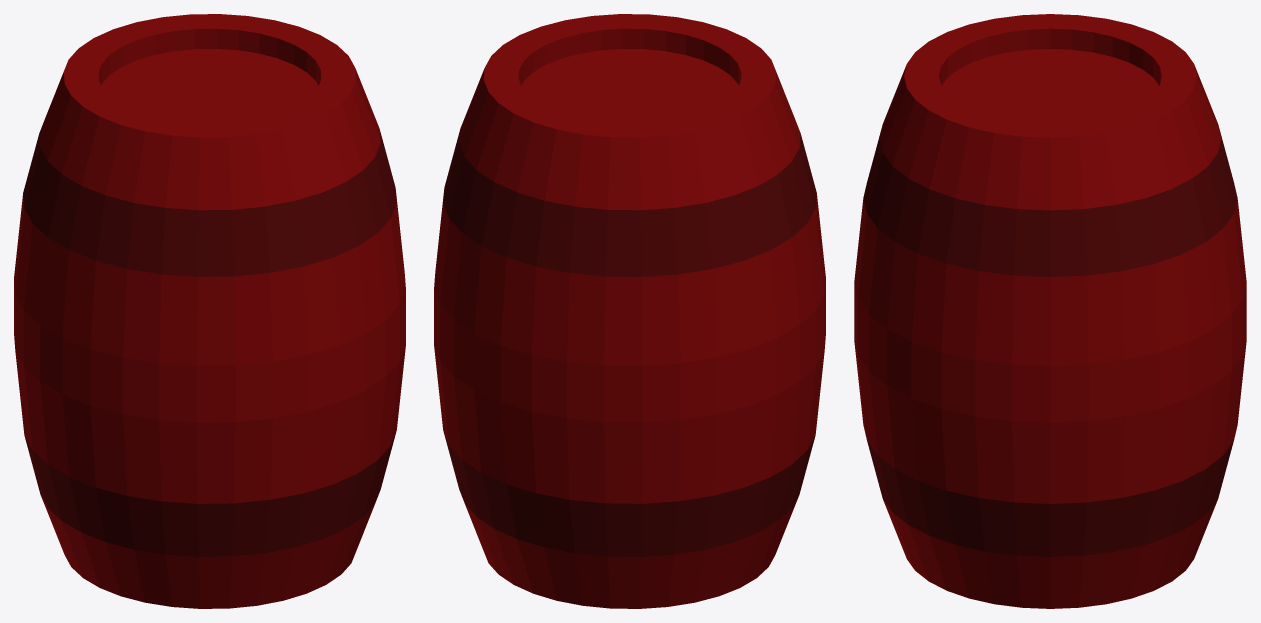
File: Barrel2.fbx
The picture shows the model from 3 angles, left to right: view 1: azimuth 30°, elevation 25°; view 2: azimuth 150°, elevation 25°; view 3: azimuth 270°, elevation 25°; orthographic projection.
Parts seen in each view (by area): view 1: Circle; view 2: Circle; view 3: Circle.
Boxes of the visible parts, x1,y1,x2,y2 form: Circle: (14,14,405,608); Circle: (434,14,825,608); Circle: (854,14,1246,608).
Bounding box in the file's own units: 233 × 308 × 233.
